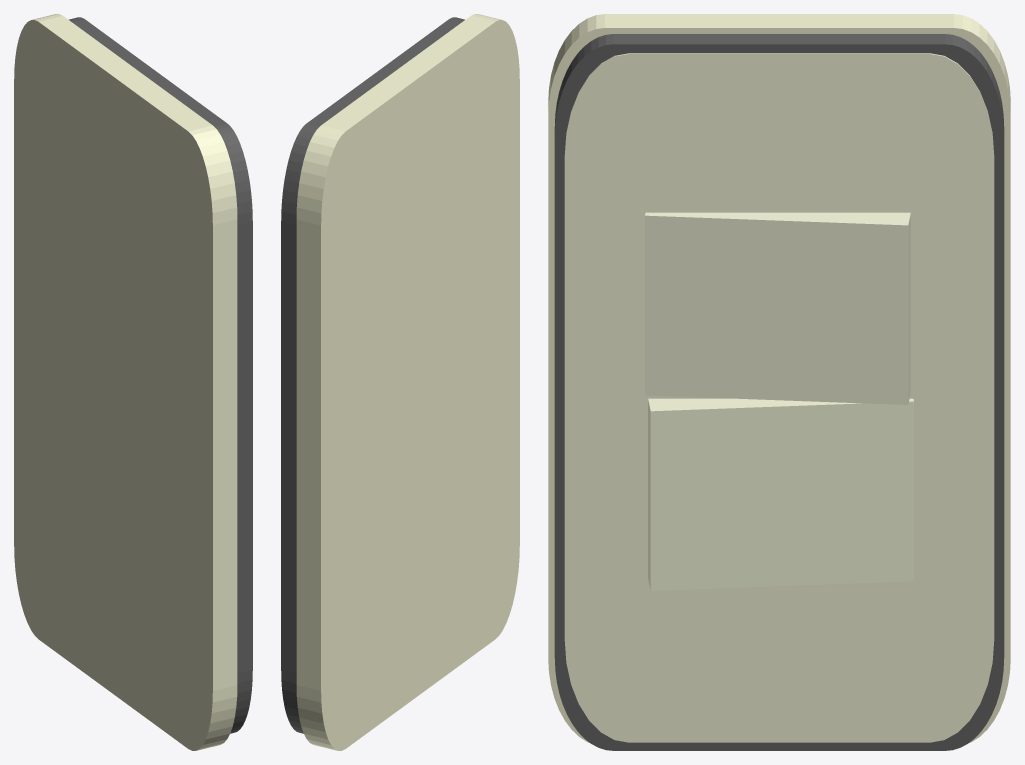
File: Switch.fbx
3 views of the same model, side by side, from view 1: azimuth 30°, elevation 25°; view 2: azimuth 150°, elevation 25°; view 3: azimuth 270°, elevation 25° (orthographic). The views are drawn at different scales.
Visible parts, largest first — view 1: SwitchFrame.002, SwitchFrame; view 2: SwitchFrame.002, SwitchFrame; view 3: SwitchFrame.001, Switch1, Switch2, SwitchFrame, SwitchFrame.002.
Boxes of the visible parts, box(x1,y1,x2,y2) form: SwitchFrame.002: box(14, 14, 237, 750); SwitchFrame: box(69, 17, 252, 733); SwitchFrame.002: box(296, 14, 519, 750); SwitchFrame: box(281, 17, 464, 733); SwitchFrame.001: box(564, 53, 994, 742); Switch1: box(645, 212, 910, 404); Switch2: box(648, 398, 913, 590); SwitchFrame: box(554, 34, 1004, 750); SwitchFrame.002: box(548, 14, 1010, 742).
Size of the model in its own units: 1.35 by 12 by 7.
